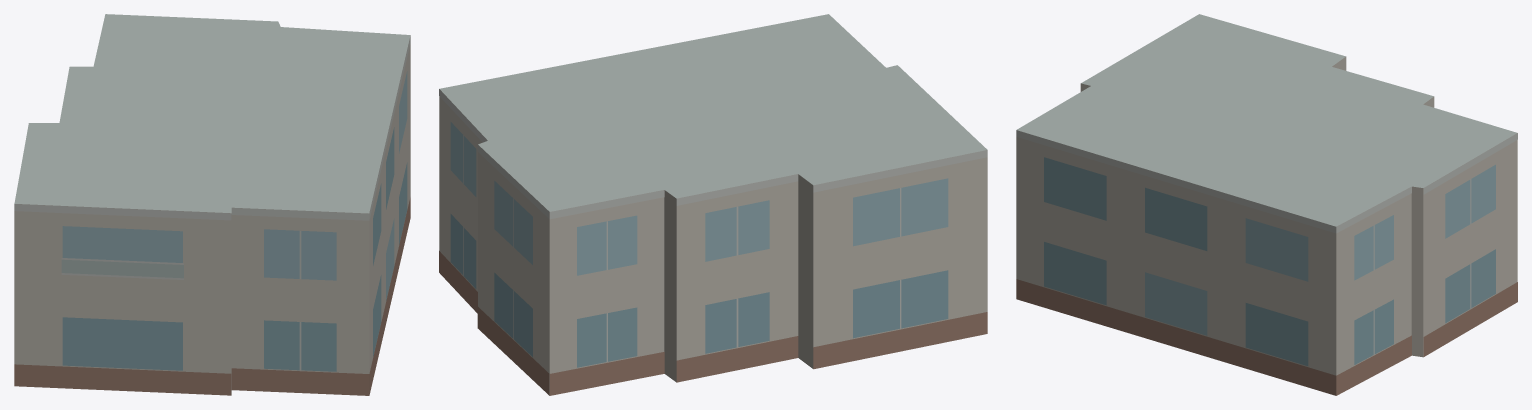
File: survey-upis-32613215.glb
The picture shows the model from 3 angles, left to right: view 1: azimuth 30°, elevation 25°; view 2: azimuth 150°, elevation 25°; view 3: azimuth 270°, elevation 25°; orthographic projection. The views are drawn at different scales.
Visible parts, largest first — view 1: survey-upis-32613215.tmp; view 2: survey-upis-32613215.tmp; view 3: survey-upis-32613215.tmp.
Part boxes in pixels (<box>): survey-upis-32613215.tmp: <box>14,14,410,395</box>; survey-upis-32613215.tmp: <box>439,14,987,395</box>; survey-upis-32613215.tmp: <box>1016,14,1517,395</box>.
Size of the model in its own units: 16.46 by 6.1 by 16.4.
